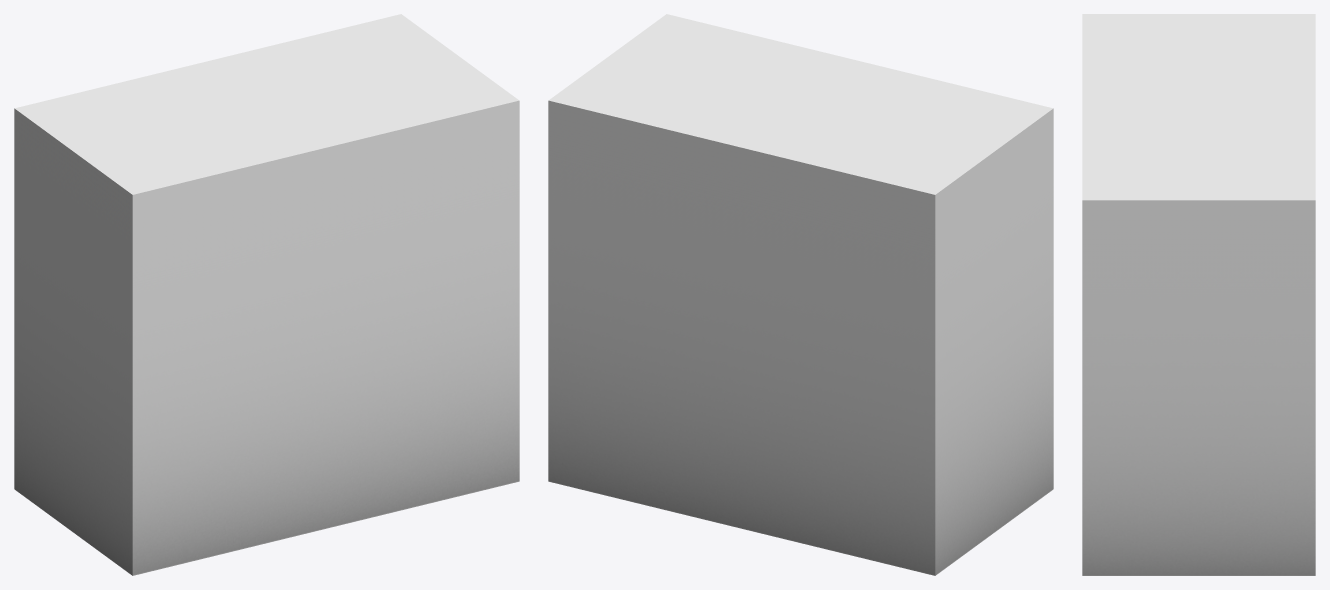
File: envase_tostadas.fbx
The picture shows the model from 3 angles, left to right: view 1: azimuth 30°, elevation 25°; view 2: azimuth 150°, elevation 25°; view 3: azimuth 270°, elevation 25°; orthographic projection.
Parts seen in each view (by area): view 1: tostadas_1; view 2: tostadas_1; view 3: tostadas_1.
Boxes of the visible parts, box(x1,y1,x2,y2) form: tostadas_1: box(14, 14, 519, 575); tostadas_1: box(548, 14, 1053, 575); tostadas_1: box(1082, 14, 1315, 575).
Size of what is drawn, in the model's own units: 17 by 16 by 9.
Materials: 1 (1 with a texture image).
